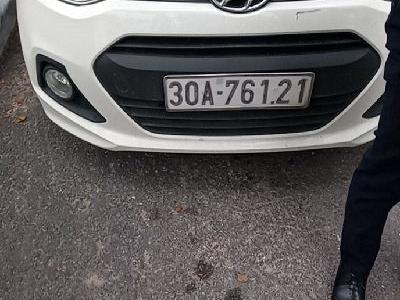lisence: (163, 72, 314, 112)
